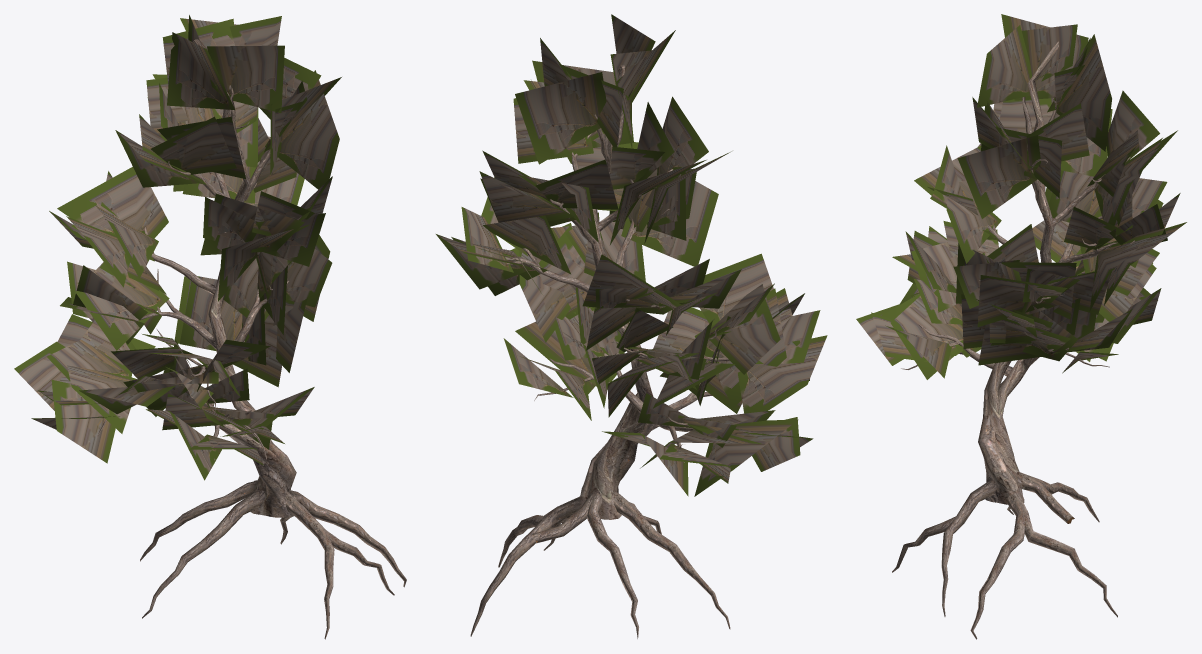
The model's file is old-tree.glb.
3 renders of one model, left to right at view 1: azimuth 30°, elevation 25°; view 2: azimuth 150°, elevation 25°; view 3: azimuth 270°, elevation 25°, orthographic. The views are drawn at different scales.
Visible parts, largest first — view 1: Tree_2_Tree_2Mat_0, Tree_0_Tree_0Mat_0; view 2: Tree_2_Tree_2Mat_0, Tree_0_Tree_0Mat_0; view 3: Tree_2_Tree_2Mat_0, Tree_0_Tree_0Mat_0.
Boxes of the visible parts, x1=… form: Tree_2_Tree_2Mat_0: x1=14, y1=15, x2=341, y2=480; Tree_0_Tree_0Mat_0: x1=97, y1=39, x2=406, y2=639; Tree_2_Tree_2Mat_0: x1=436, y1=14, x2=827, y2=496; Tree_0_Tree_0Mat_0: x1=470, y1=65, x2=730, y2=638; Tree_2_Tree_2Mat_0: x1=856, y1=14, x2=1186, y2=379; Tree_0_Tree_0Mat_0: x1=892, y1=41, x2=1134, y2=639.
Bounding box in the file's own units: 2.57 × 4.24 × 2.36.
Materials: 3 (3 with a texture image).
